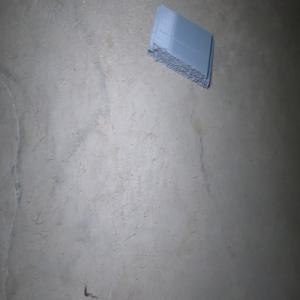PlasticPart: (146, 3, 215, 89)
